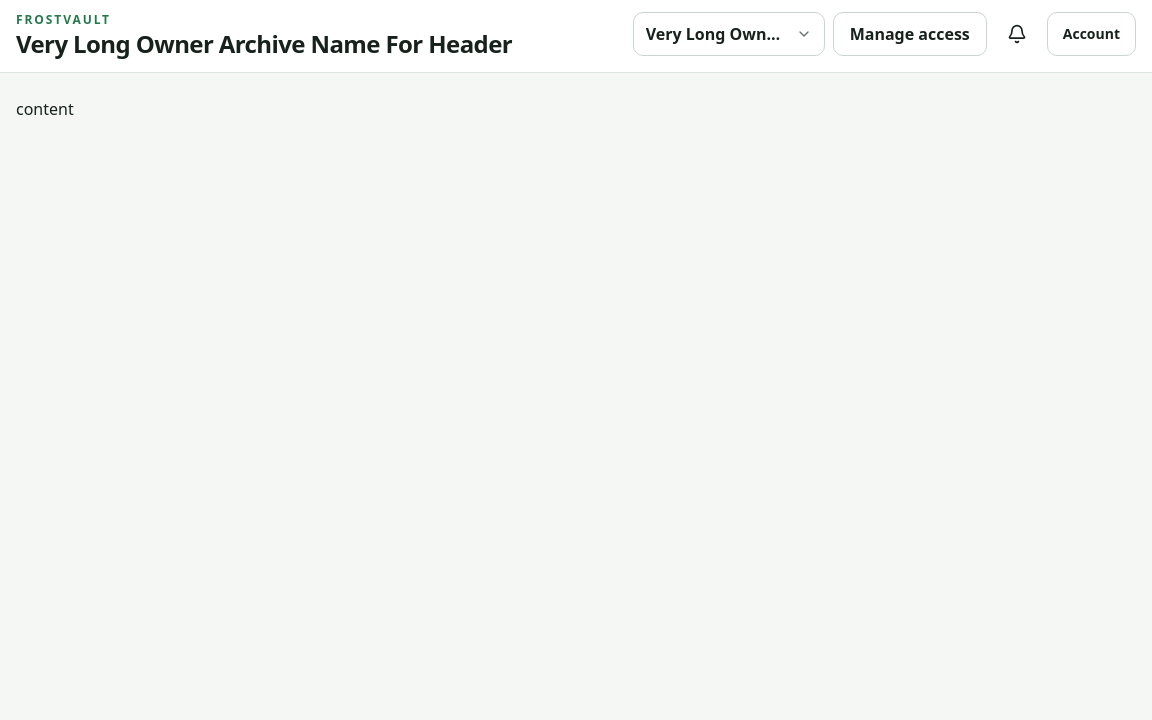
App drawer capability filtering › keeps desktop primary header free of secondary destinations
Expected: the button "new vault" is not shown
Expected: the button "administration" is not shown
Step 1. Click the button with aria-label "open account menu" → click(1091, 34), box [1047, 12, 1136, 56]
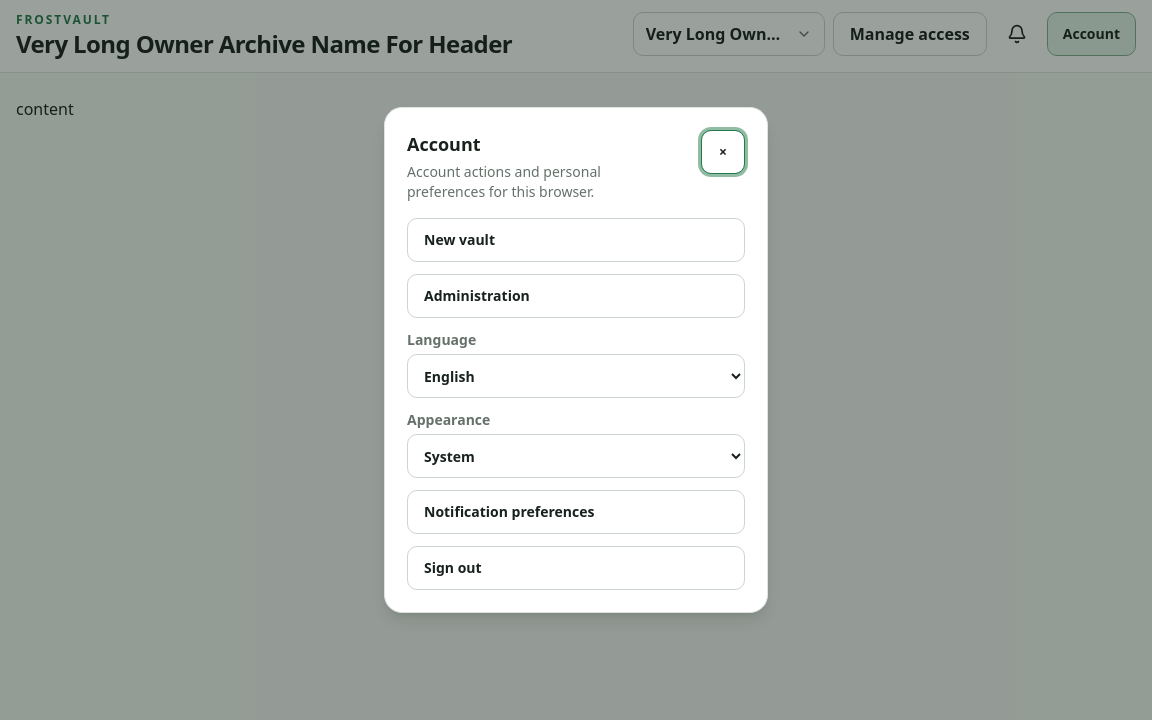
Expected: the button "New vault" is shown, [407, 218, 745, 262]
Expected: the button "Administration" is shown, [407, 274, 745, 318]
Expected: the dropdown labelled "Language" is shown, [407, 354, 745, 398]
